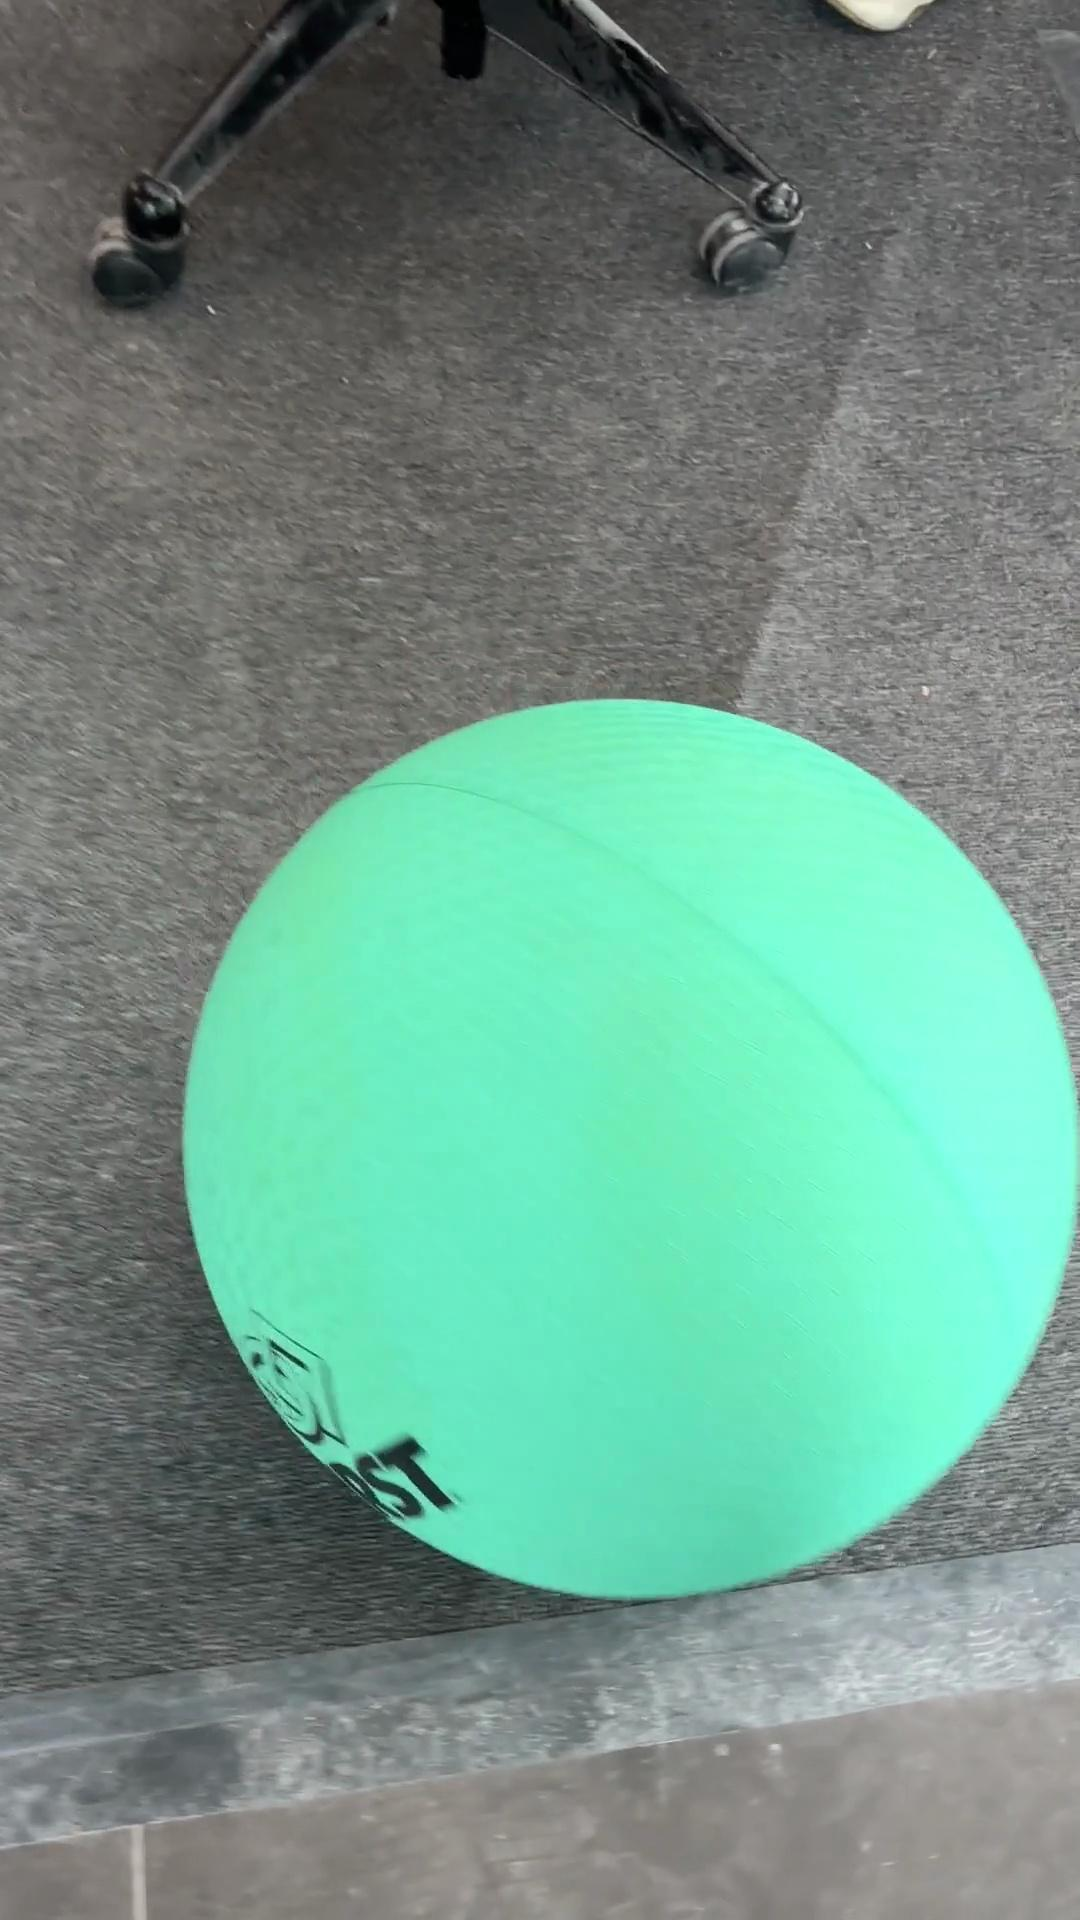ALGAE: (178, 692, 1076, 1605)
